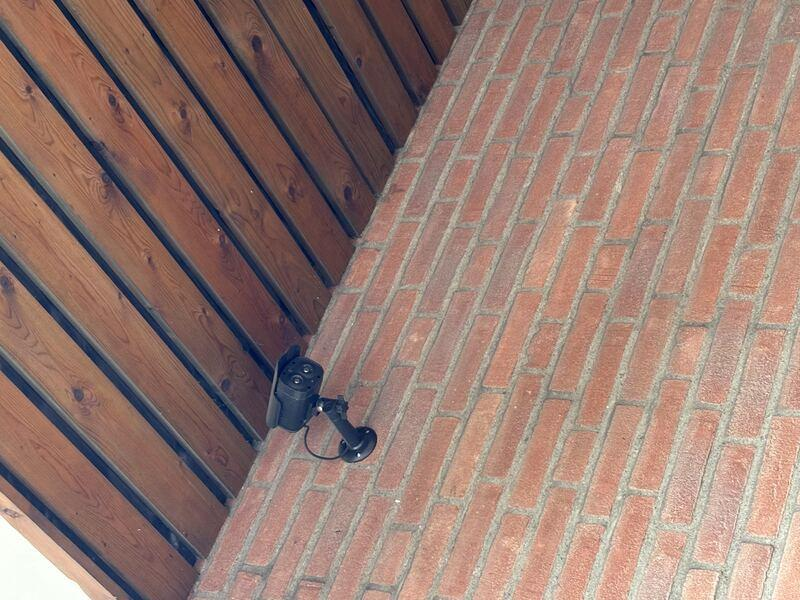bullet: (155, 257, 258, 333)
